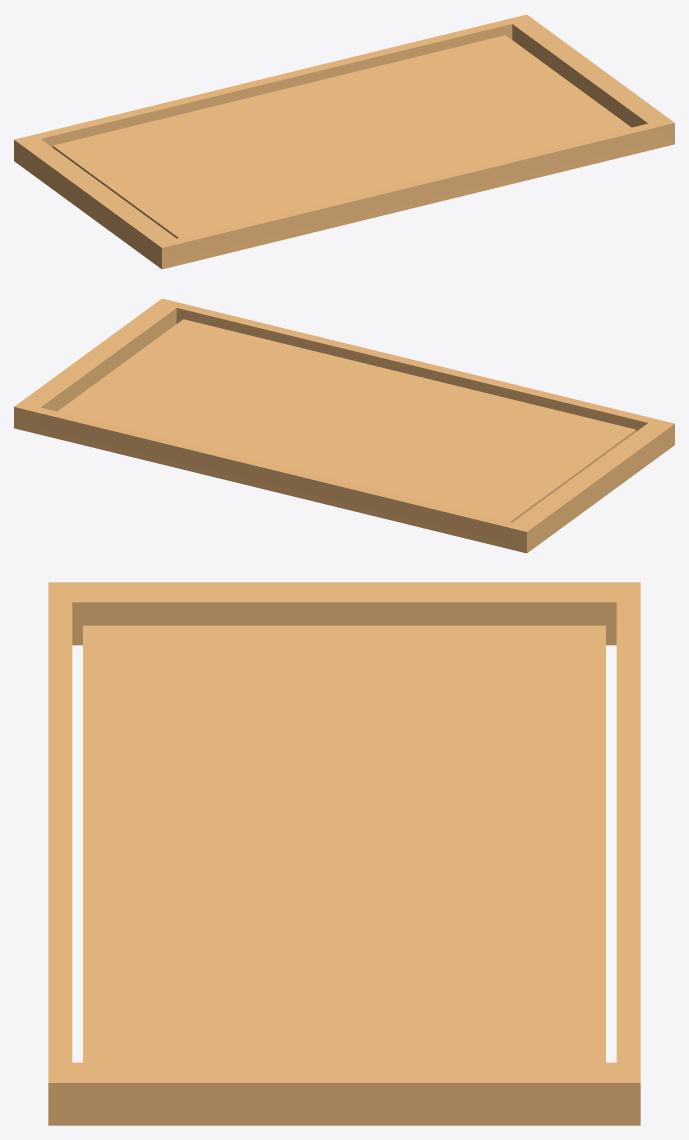
Rendered from tile-rect.glb.
The picture shows the model from 3 angles, top to bottom: view 1: azimuth 30°, elevation 25°; view 2: azimuth 150°, elevation 25°; view 3: azimuth 270°, elevation 25°; orthographic projection. The views are drawn at different scales.
Visible parts, largest first — view 1: tile; view 2: tile; view 3: tile.
Boxes of the visible parts, x1,y1,x2,y2 form: tile: (14, 14, 674, 269); tile: (14, 298, 674, 553); tile: (48, 582, 640, 1125).
Bounding box in the file's own units: 2 × 0.08 × 1.
